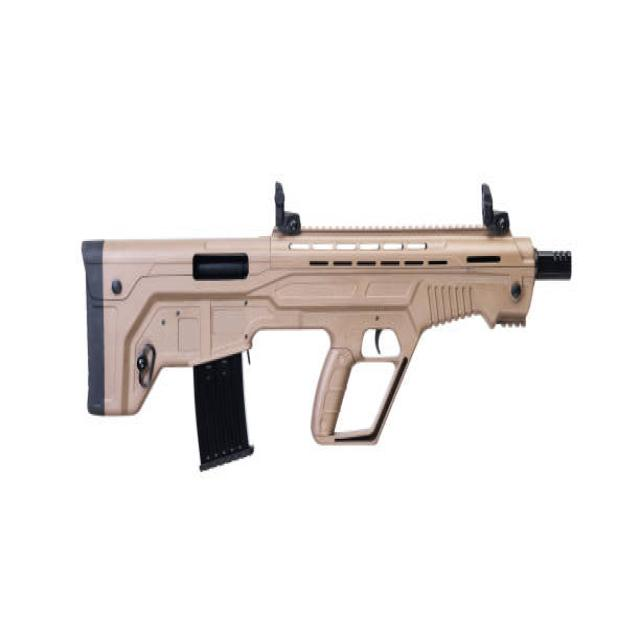rifle: (83, 171, 580, 488)
